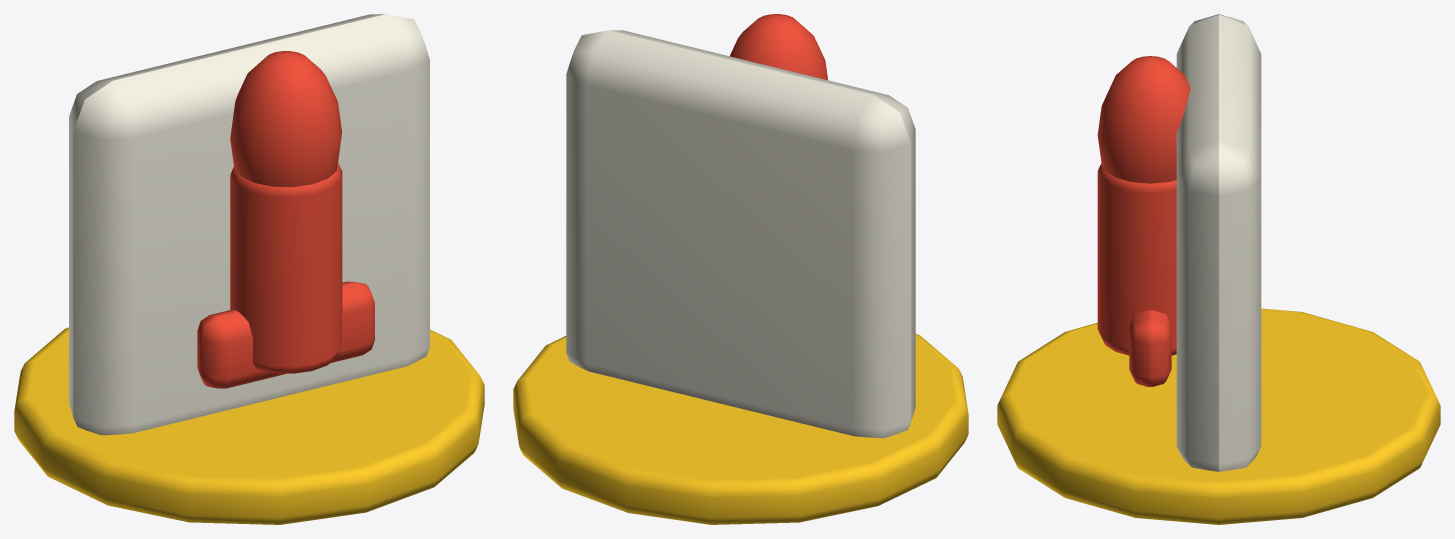
The model's file is COM-POWER-03.glb.
The picture shows the model from 3 angles, left to right: view 1: azimuth 30°, elevation 25°; view 2: azimuth 150°, elevation 25°; view 3: azimuth 270°, elevation 25°; orthographic projection. The views are drawn at different scales.
Parts seen in each view (by area): view 1: rounded badge, base ring, rocket body, rocket nose, rocket fins; view 2: rounded badge, base ring, rocket nose; view 3: base ring, rounded badge, rocket body, rocket nose, rocket fins.
Part boxes in pixels (x1,y1,x2,y2): rounded badge: (69, 14, 429, 435); base ring: (14, 327, 484, 524); rocket body: (230, 162, 342, 373); rocket nose: (230, 51, 341, 187); rocket fins: (197, 281, 374, 388); rounded badge: (566, 30, 915, 438); base ring: (513, 334, 968, 524); rocket nose: (730, 14, 827, 80); base ring: (997, 308, 1440, 524); rounded badge: (1176, 14, 1261, 471); rocket body: (1097, 163, 1176, 355); rocket nose: (1097, 56, 1190, 183); rocket fins: (1129, 310, 1171, 386).
Bounding box in the file's own units: 0.84 × 0.79 × 0.84.
